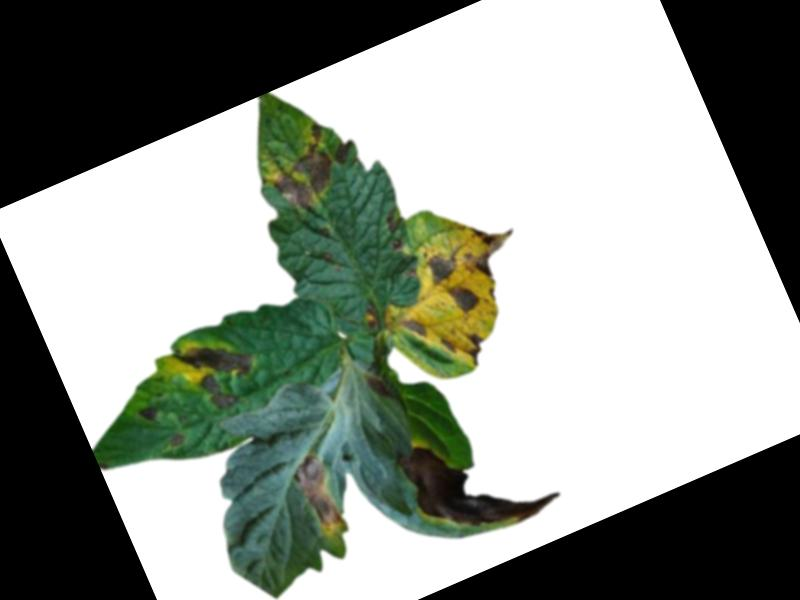Early_blight: (395, 399, 564, 557), (256, 120, 351, 222), (171, 324, 269, 422), (452, 211, 532, 285), (288, 449, 352, 540), (420, 245, 463, 287), (443, 276, 484, 318), (379, 204, 414, 253), (459, 330, 492, 369), (329, 136, 358, 167), (402, 315, 429, 344), (437, 333, 461, 359), (137, 403, 160, 427), (363, 307, 381, 330), (169, 432, 188, 451)
